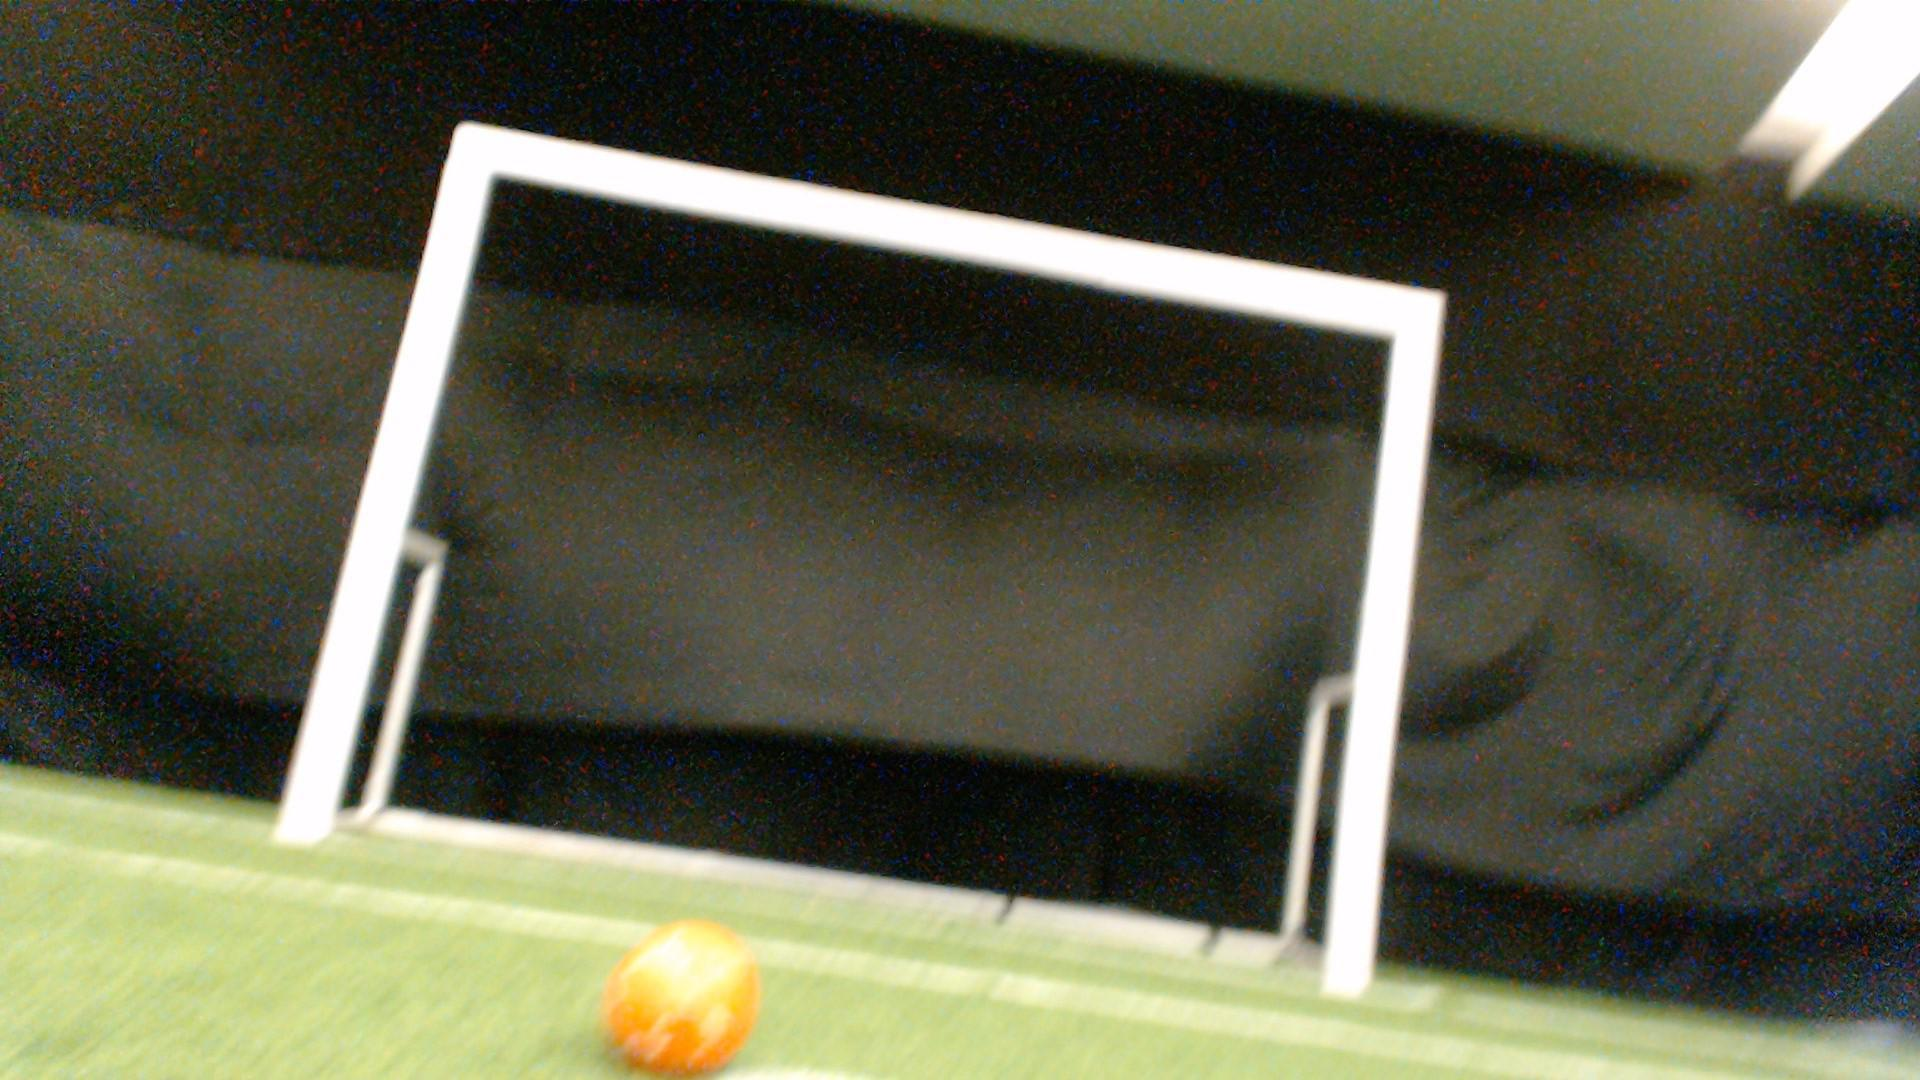bola: (584, 911, 782, 1076)
